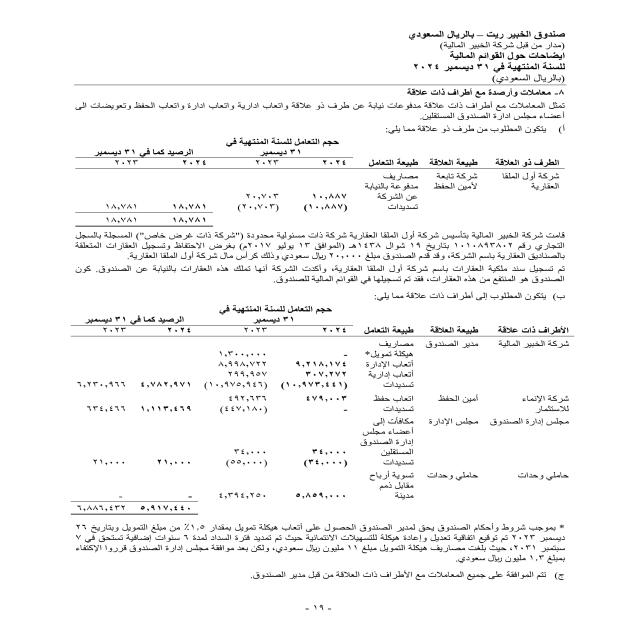notes: (442, 50, 570, 61)
table: (50, 306, 573, 520), (40, 137, 566, 236)
